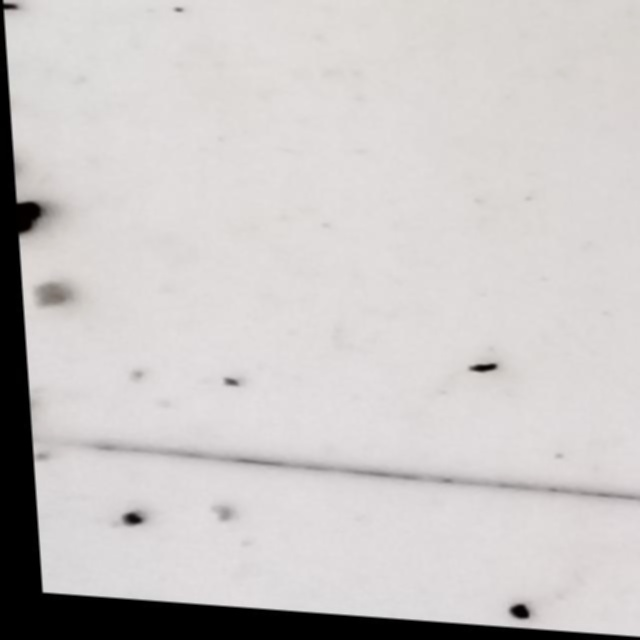varroa: (12, 207, 41, 258)
